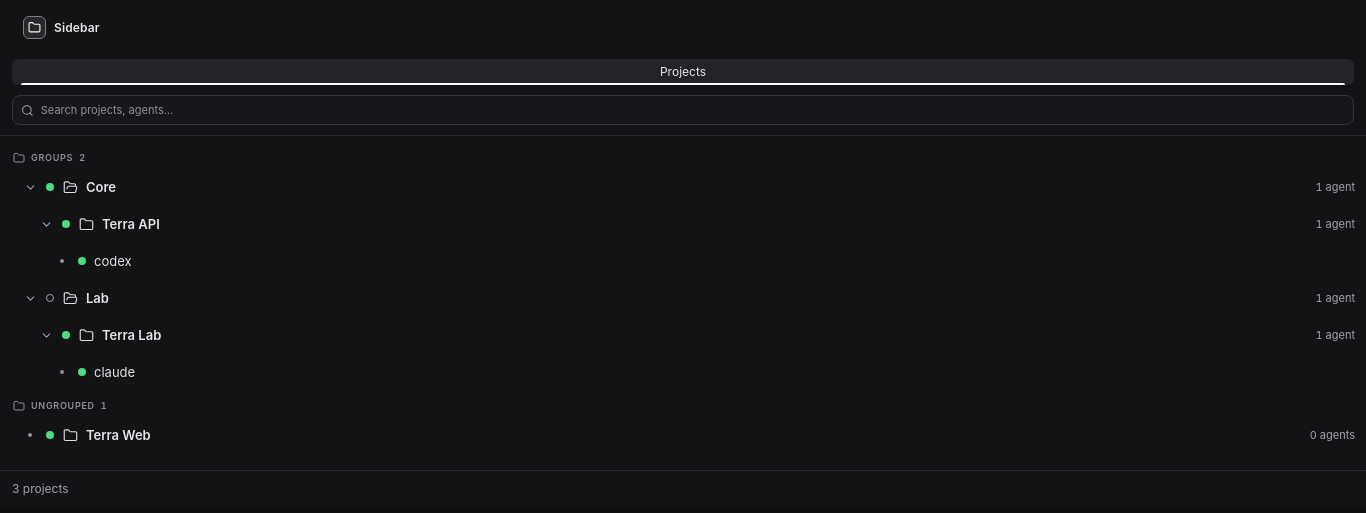
Test: Navigator rows › Given a search that matches nothing, when typing it, then the tree says no project was found
In the search field named "Search projects and agents": (693, 110) 41,96 -> 1345,124, type "zzz"
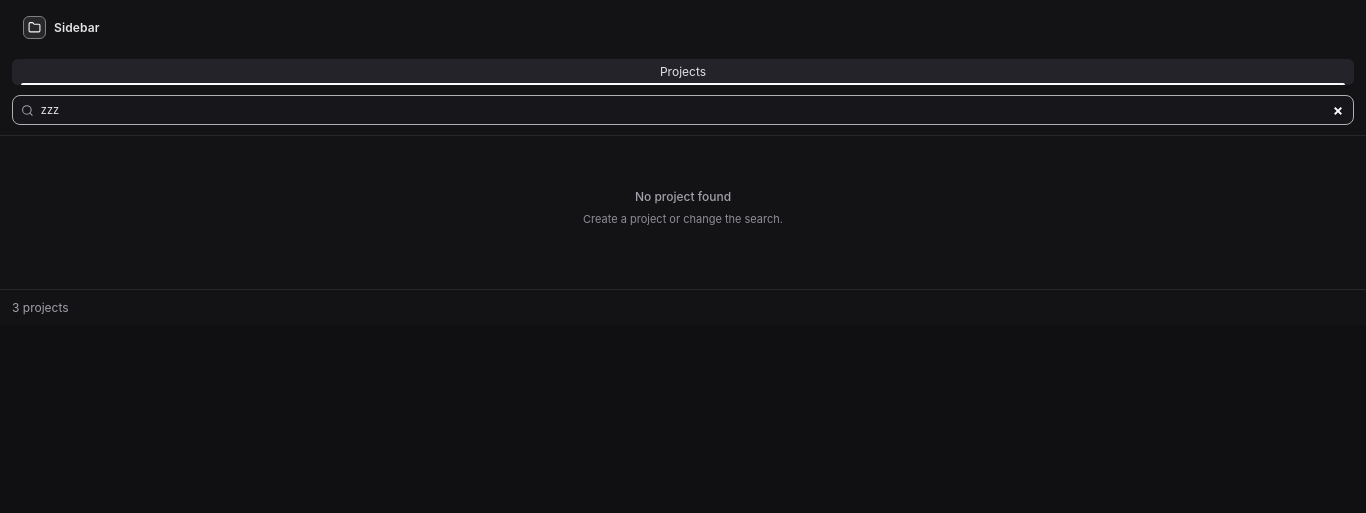
Check: the text "No project found" is shown, box 635,189 -> 731,204
